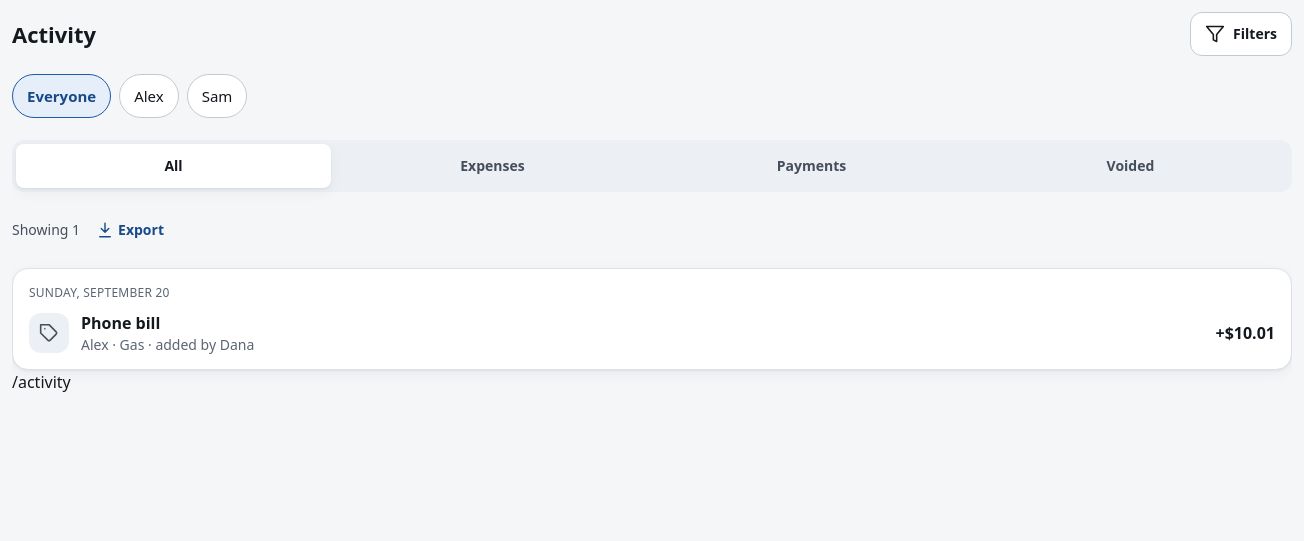
Test: ActivityPage as a Parent › expands a row to show when it was entered, its note and the void control
The image size is (1304, 541).
Click the button "Phone bill Alex · Gas · added by Dana +$10.01" at {"x": 49, "y": 333}, box [29, 301, 1275, 365]
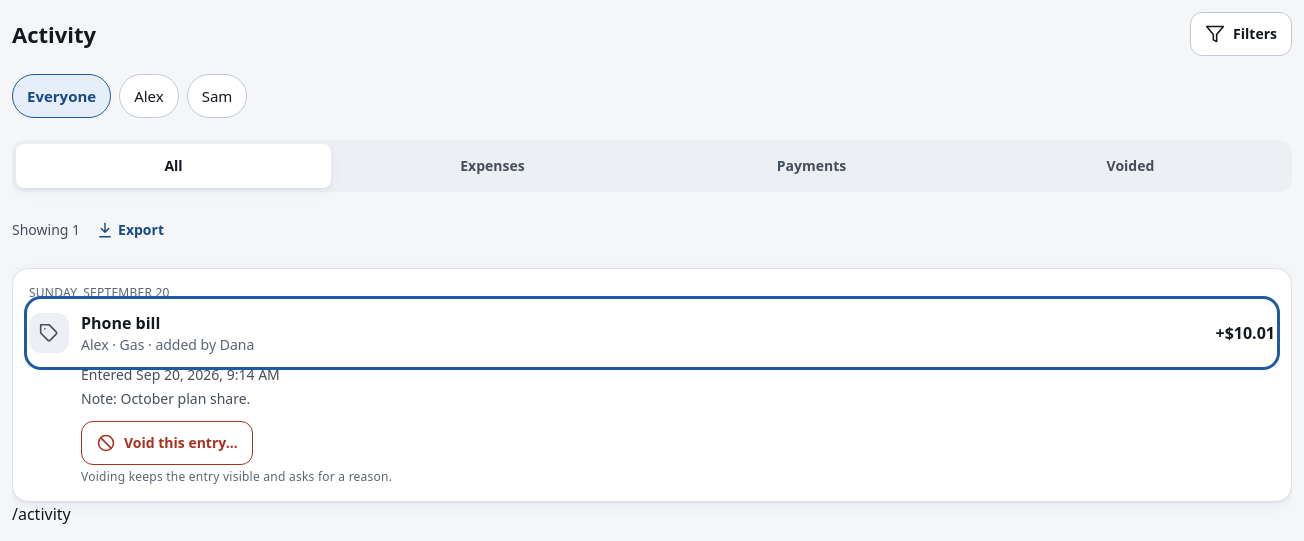
Check: the text "Entered Sep 20, 2026, 9:14 AM" is shown, box [81, 365, 280, 384]
Check: the text "Note: October plan share." is shown, box [81, 389, 250, 408]
Check: the button "Void this entry…" is shown, box [81, 421, 253, 465]
Click the button "Phone bill Alex · Gas · added by Dana +$10.01" at {"x": 49, "y": 333}, box [29, 301, 1275, 365]
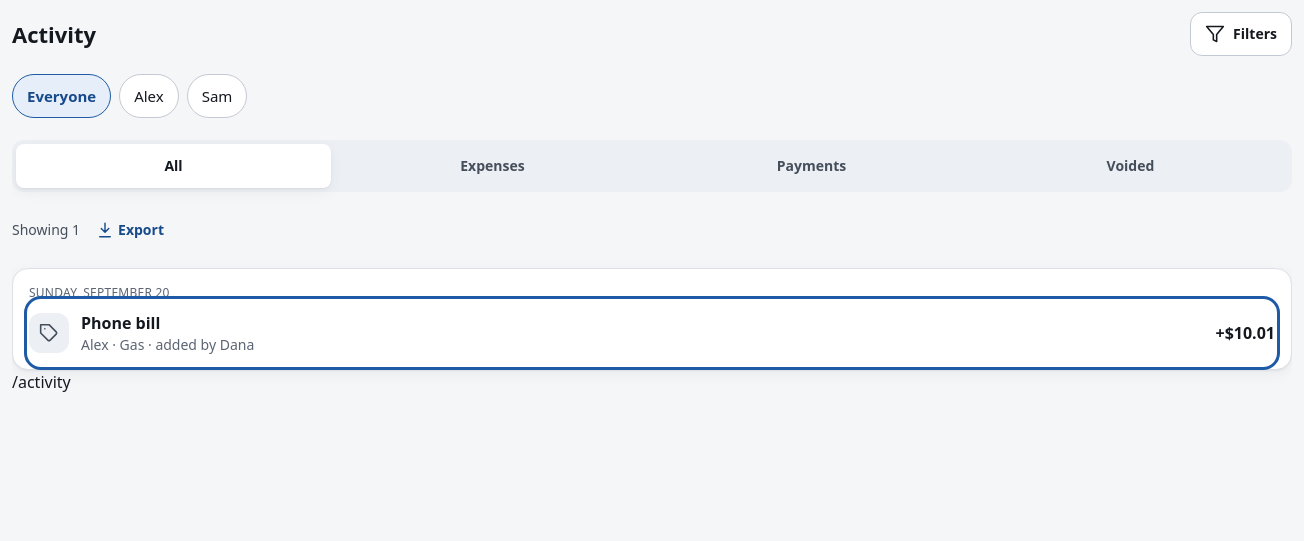
Check: the text "Note: October plan share." is gone
